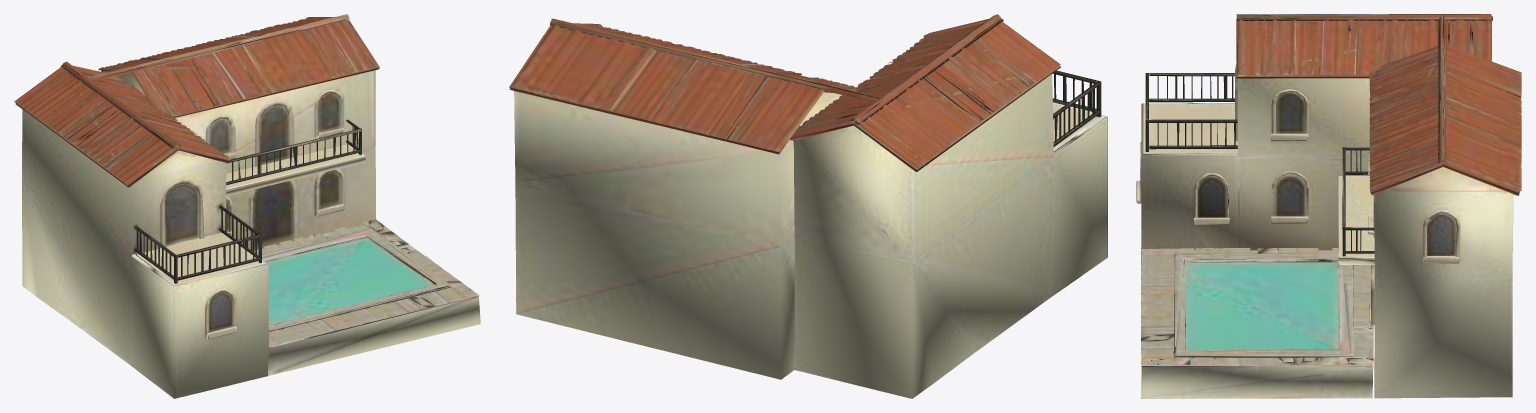
File: 08-villa-with-pool.glb
3 views of the same model, side by side, from view 1: azimuth 30°, elevation 25°; view 2: azimuth 150°, elevation 25°; view 3: azimuth 270°, elevation 25° (orthographic). The views are drawn at different scales.
Visible parts, largest first — view 1: geometry_0; view 2: geometry_0; view 3: geometry_0.
Boxes of the visible parts, bbox=[...] form: geometry_0: bbox=[14, 14, 480, 398]; geometry_0: bbox=[509, 14, 1107, 398]; geometry_0: bbox=[1136, 14, 1521, 398].
Size of the model in its own units: 0.6792 by 0.4414 by 0.6401.
Materials: 1 (1 with a texture image).
